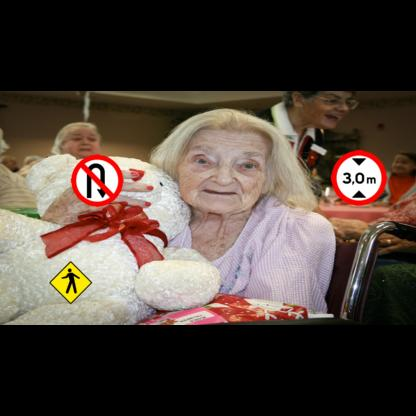A-32a: (49, 261, 92, 304)
R-15: (331, 150, 387, 205)
